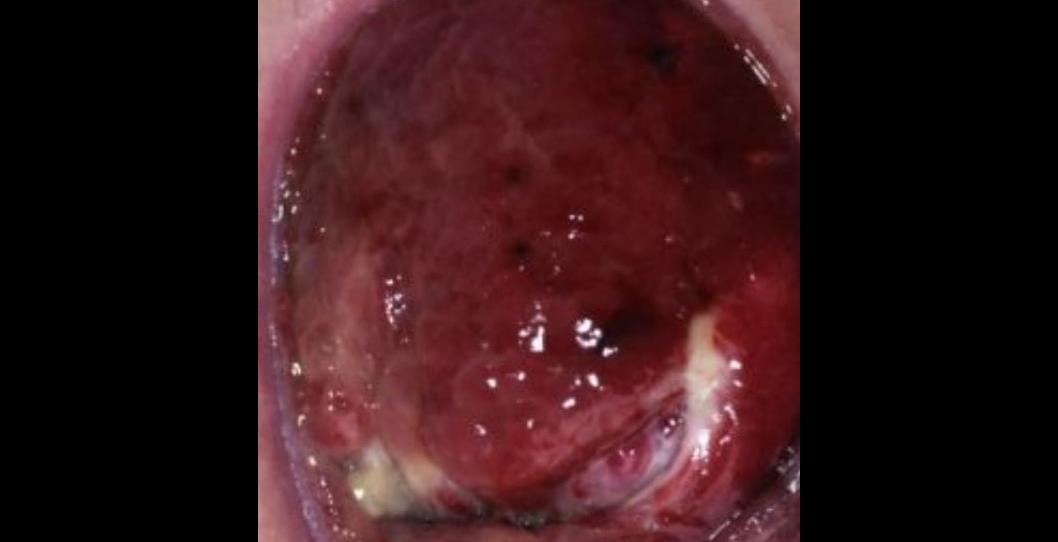Stage3: (270, 0, 800, 542)
